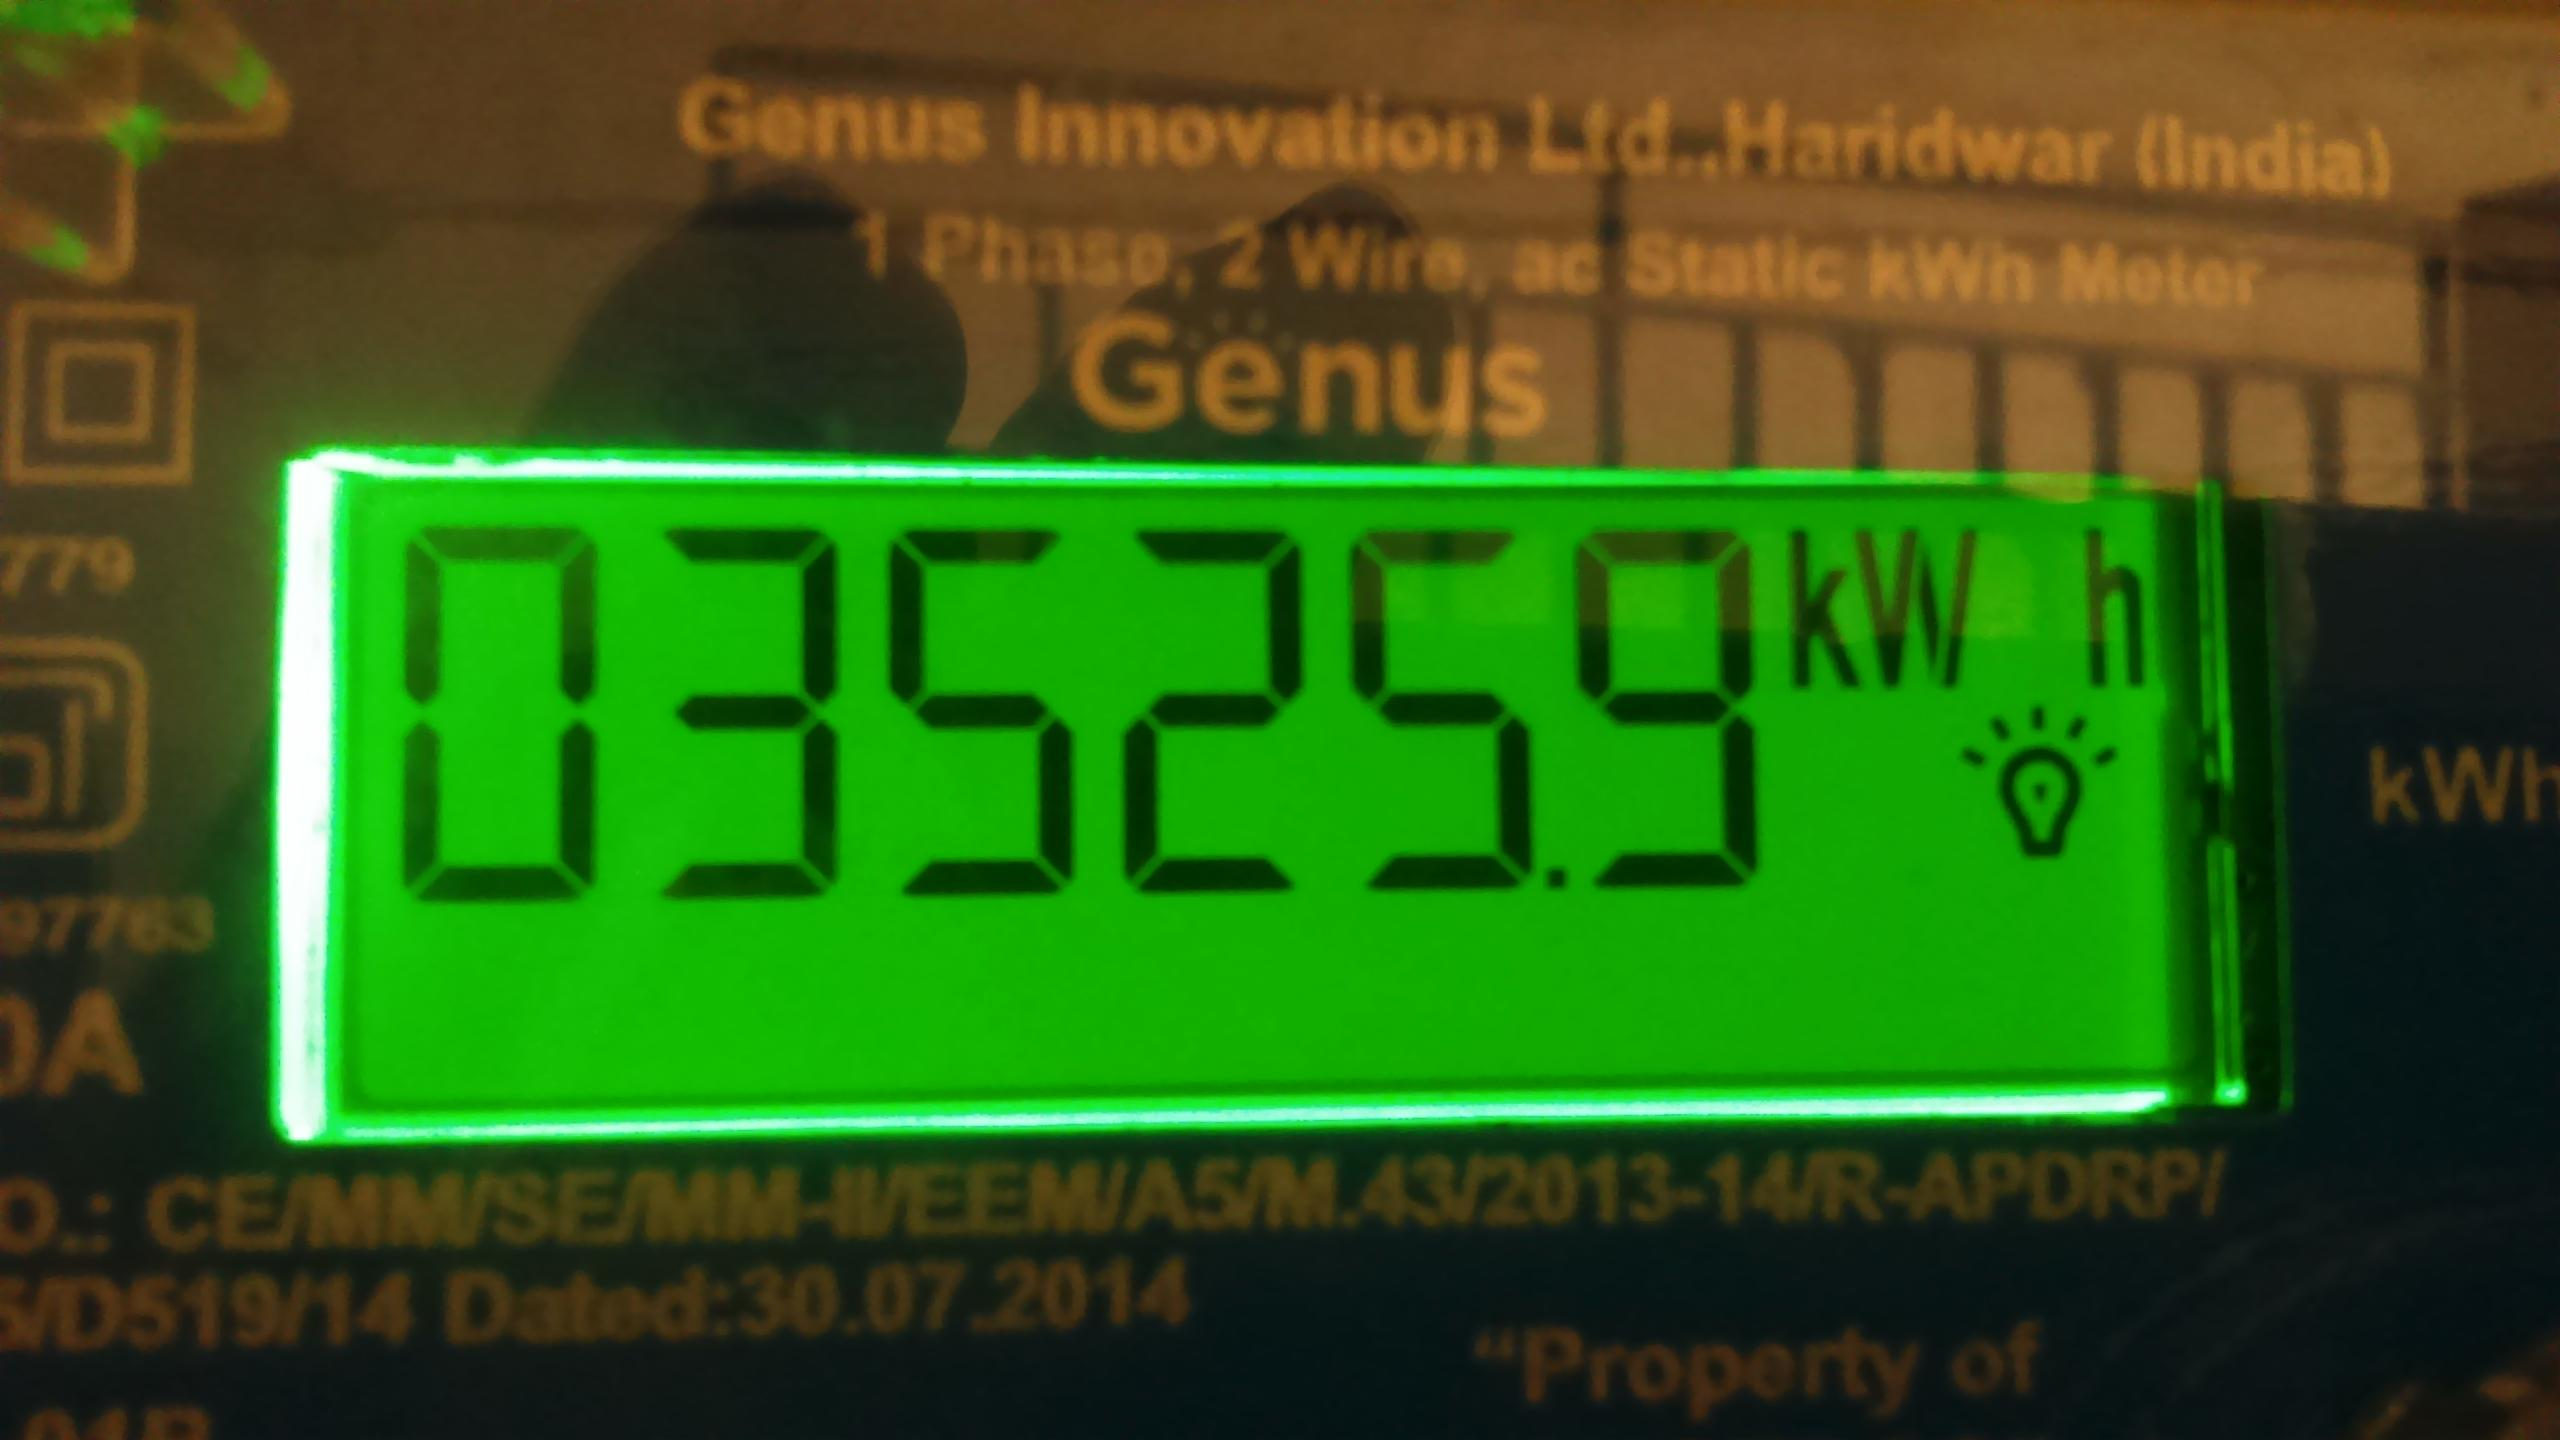.: (1772, 519, 2157, 721)
0: (1517, 844, 1600, 925)
1: (355, 498, 601, 935)
3: (1081, 473, 1324, 949)
4: (621, 484, 867, 949)
6: (858, 494, 1081, 958), (1336, 489, 1540, 949)
:: (1572, 524, 1797, 923)
